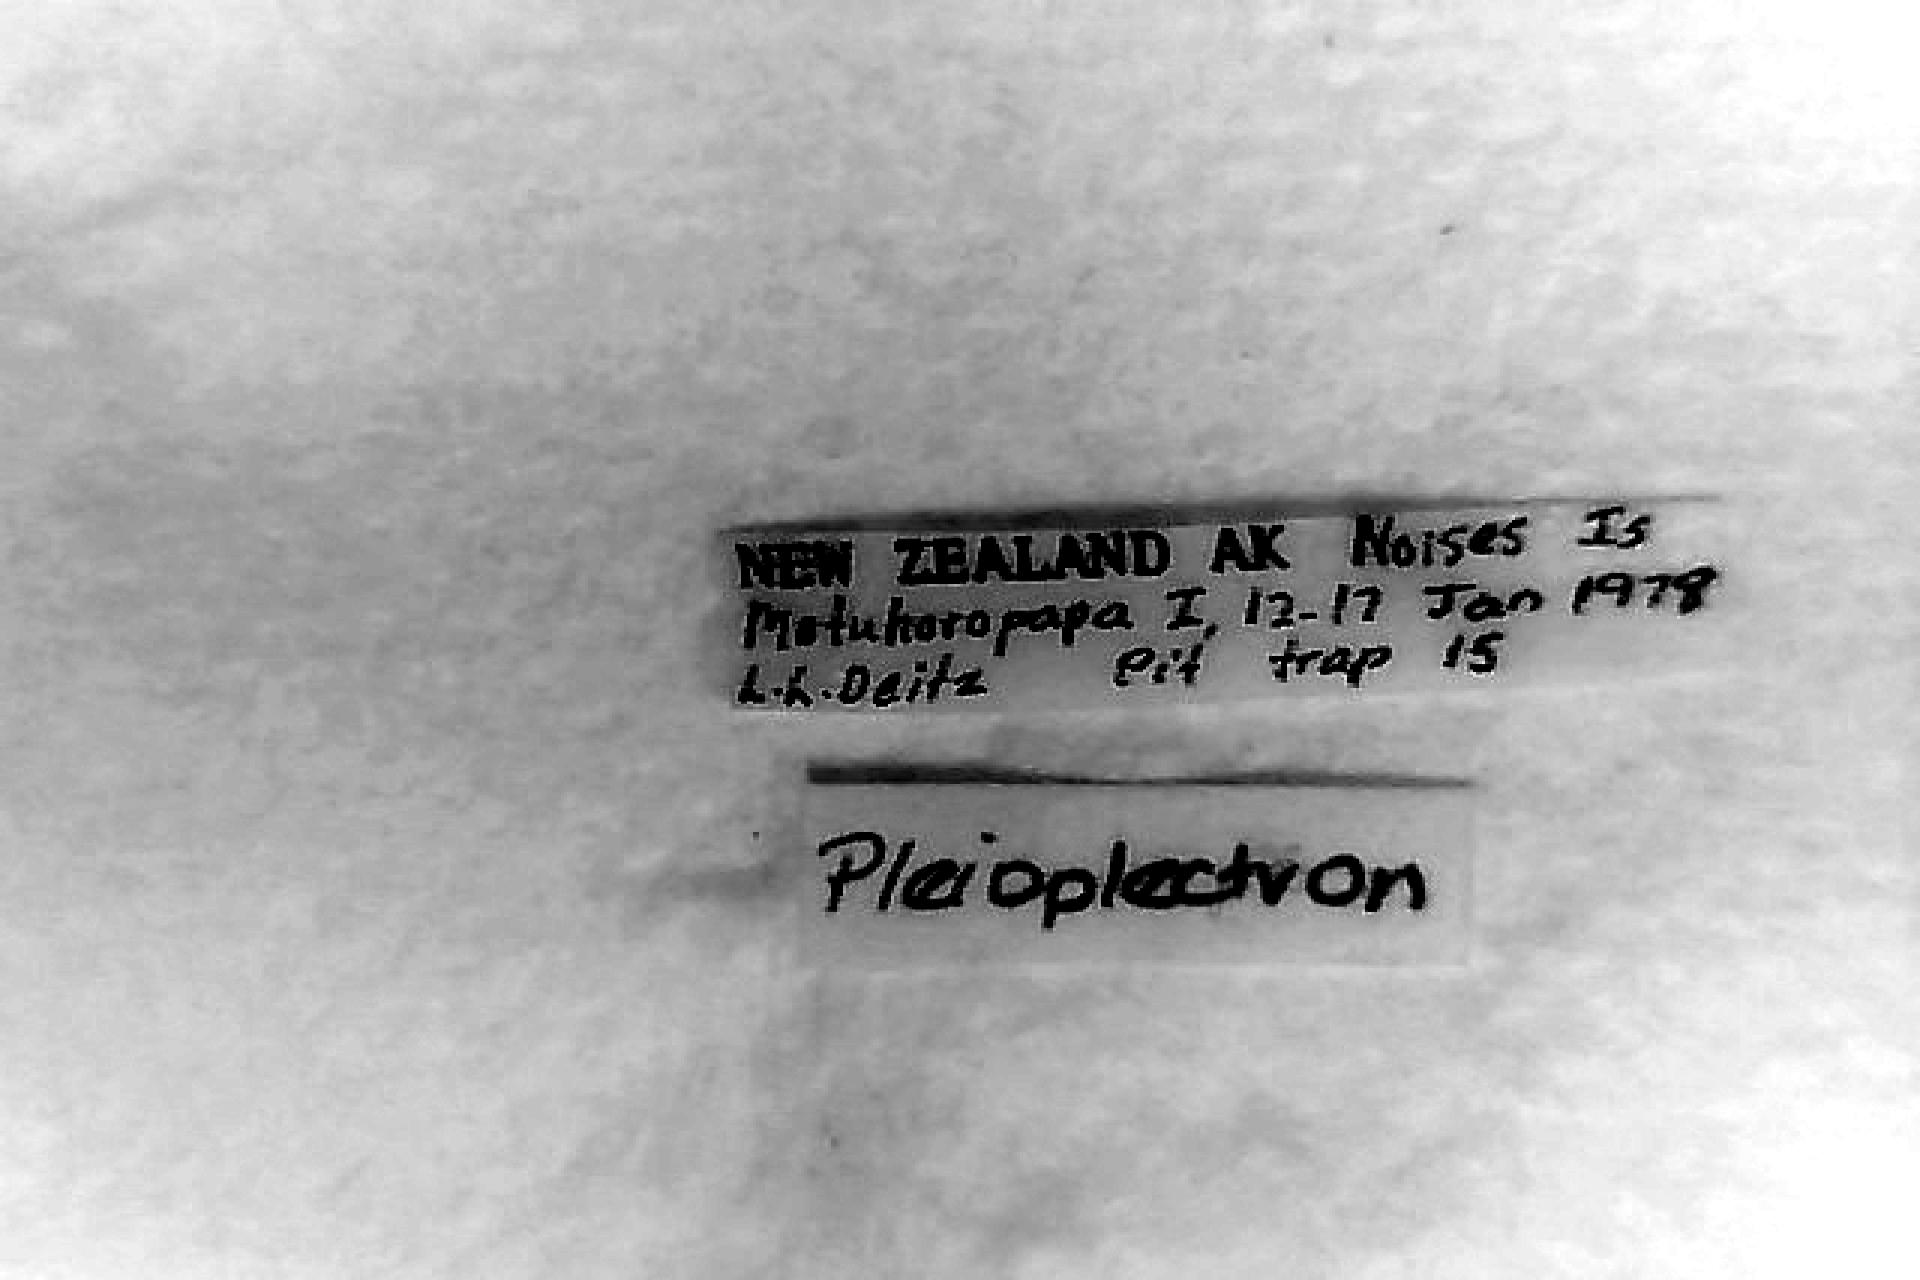hand_label: (806, 773, 1470, 966)
mixed_label: (727, 500, 1726, 710)
